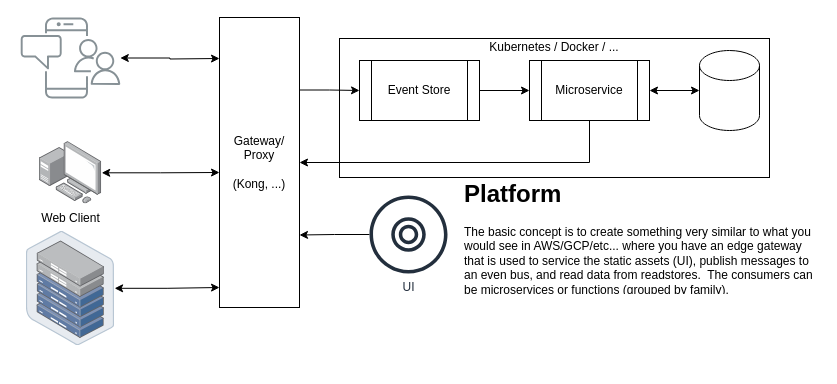
Some shapes in this 837 by 384 pixel diagram are drawn without their labels. Here are the shapes that lost their labels. From the top down, the centre of each, then its label:
At pixel 70 57: "Mobile Client".
At pixel 729 90: "Cache/DB".
At pixel 70 287: "3rd Party Consumer".
